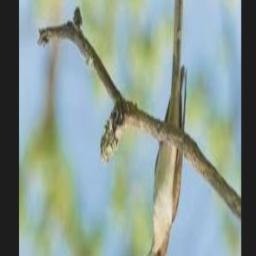Cuckoo: (142, 0, 187, 256)
